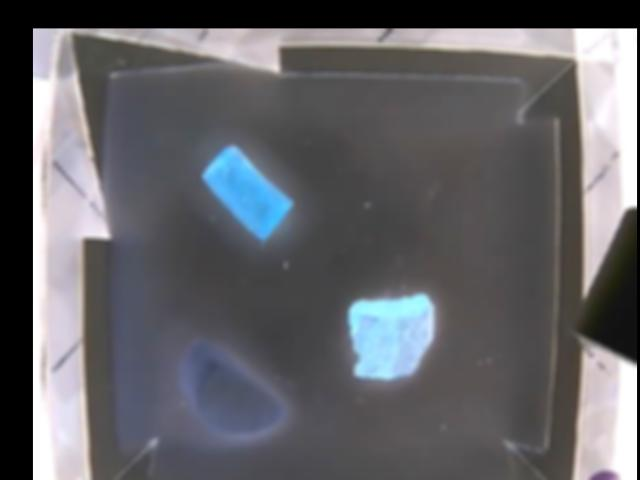Brisk: (348, 292, 436, 379)
Carrot: (198, 142, 294, 241)
Mooli: (180, 336, 290, 436)
